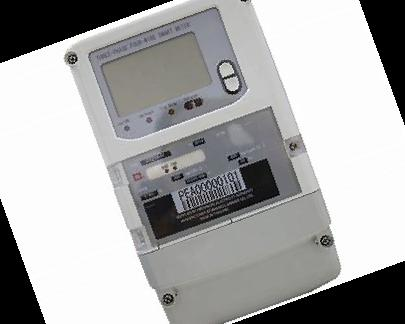digital: (69, 1, 330, 292)
